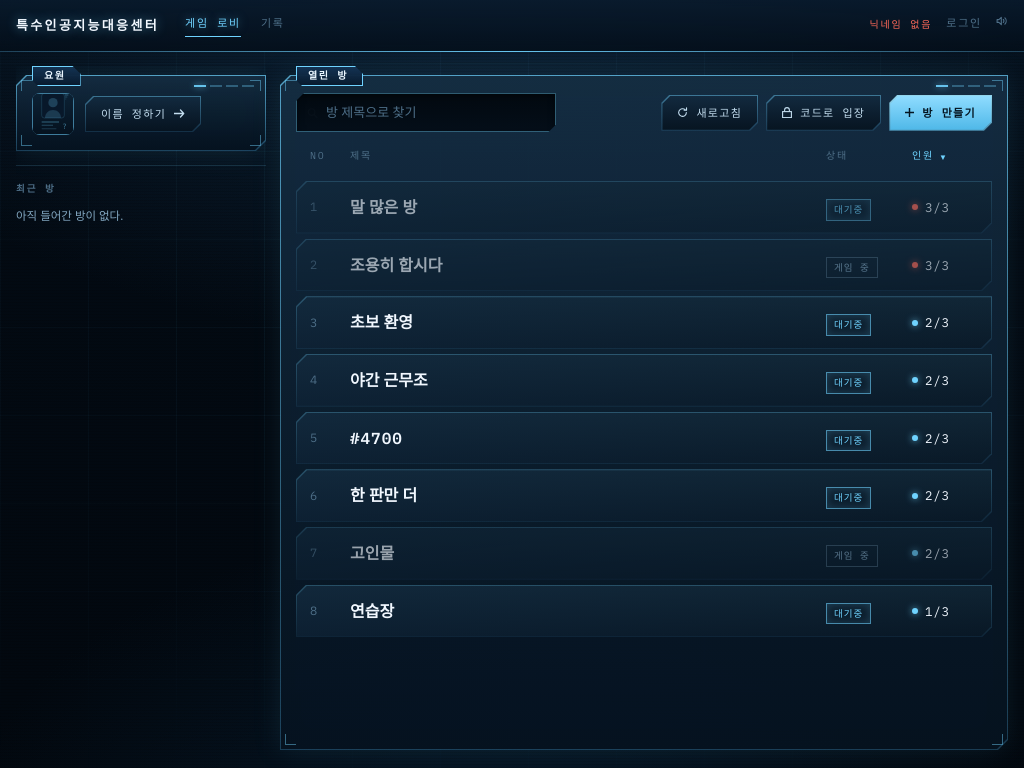
Test case: 게임 로비 — 목록에서 방으로 › 찾은 것이 없으면 그 자리에서, **찾던 이름 그대로** 방을 열게 한다 (원작)
Type "없는방" into the field named "방 제목 검색". click: point(426, 113)
box: [296,93,556,132]
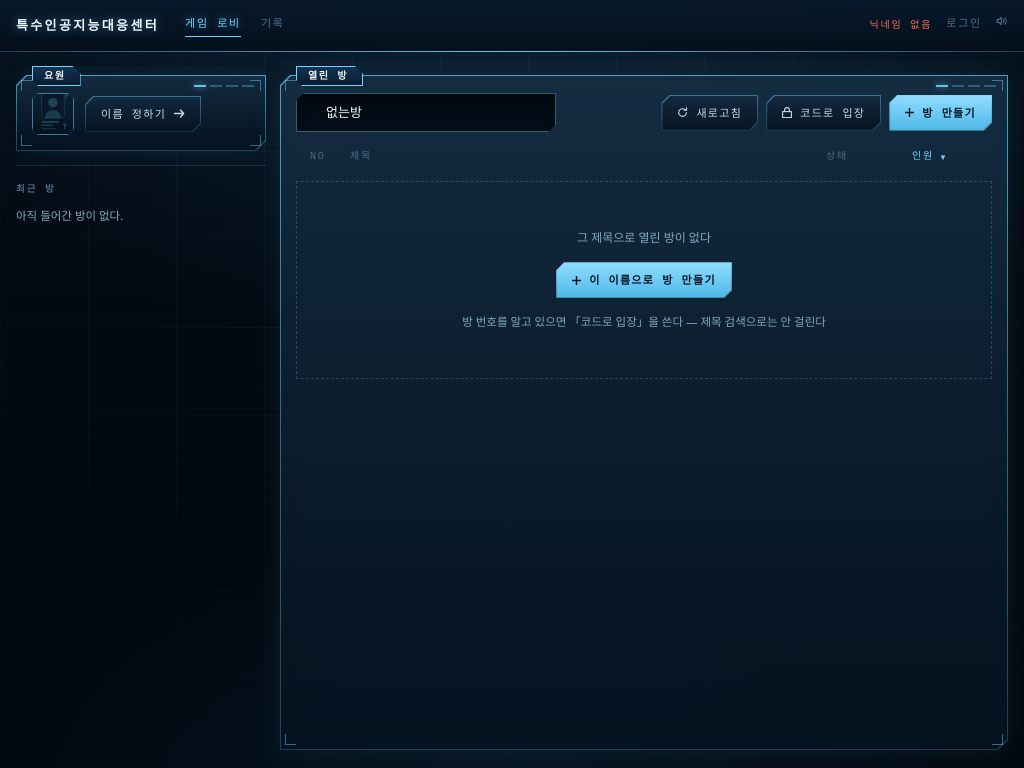
Now the text "그 제목으로 열린 방이 없다" is shown, box [577,228,711,248]
// 찾다 못 찾은 사람에게 자연스러운 다음 수는 그 이름으로 방을 여는 것이다
Click the button "이 이름으로 방 만들기". click: point(644, 280)
box: [556,262,732,298]
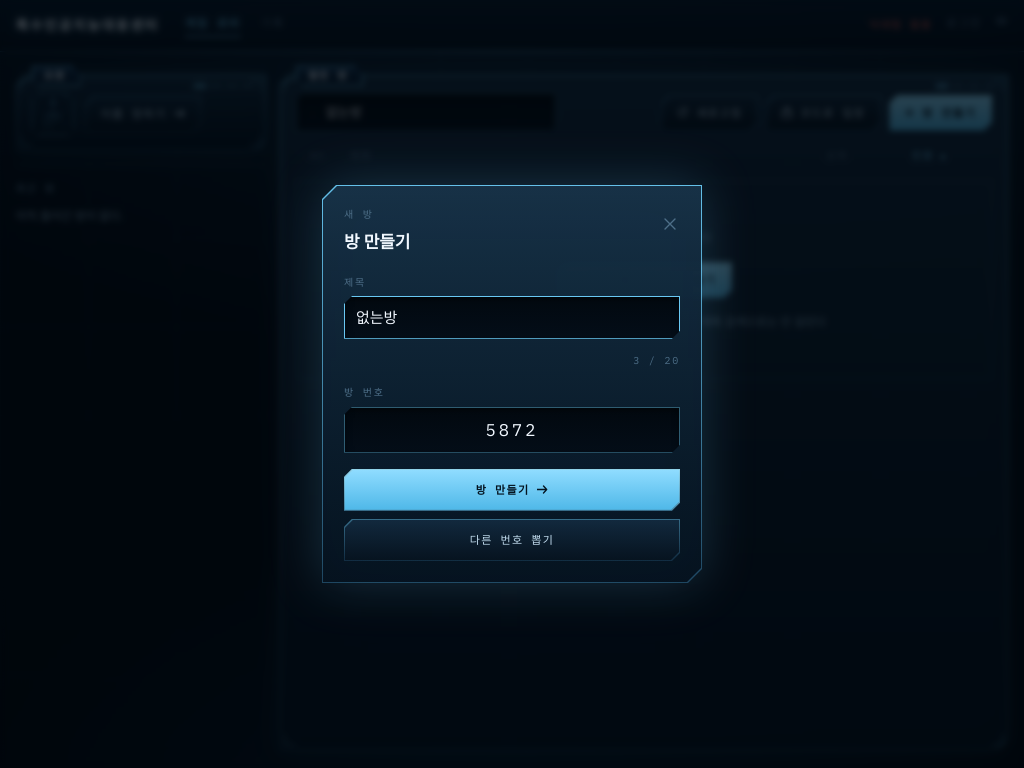
Now the field named "방 제목" holds "없는방", box [344,296,680,339]
